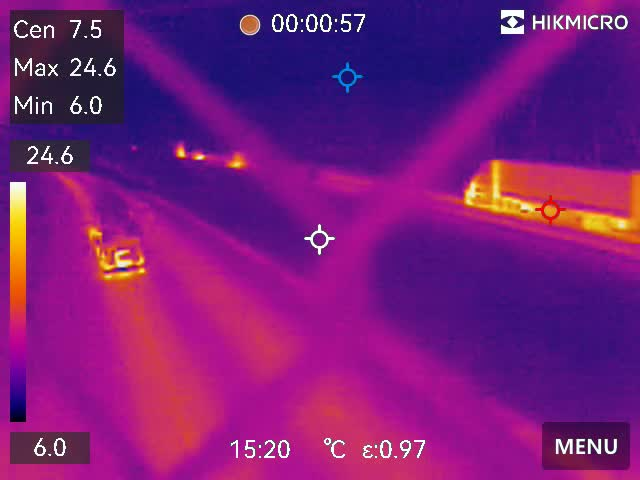heavyTruck: (458, 151, 640, 239)
